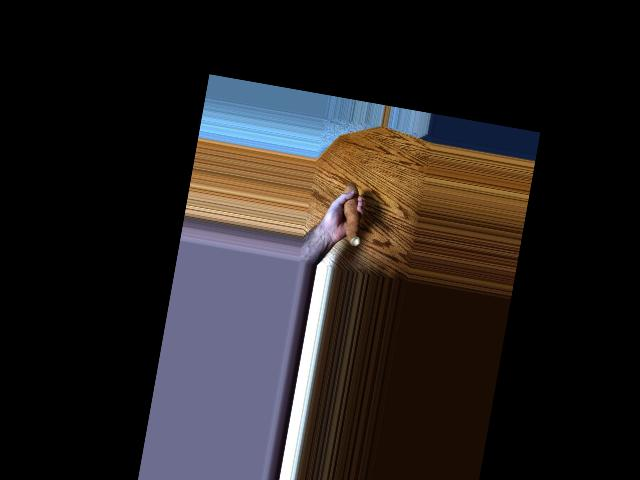sweet_potato: (331, 187, 366, 251)
